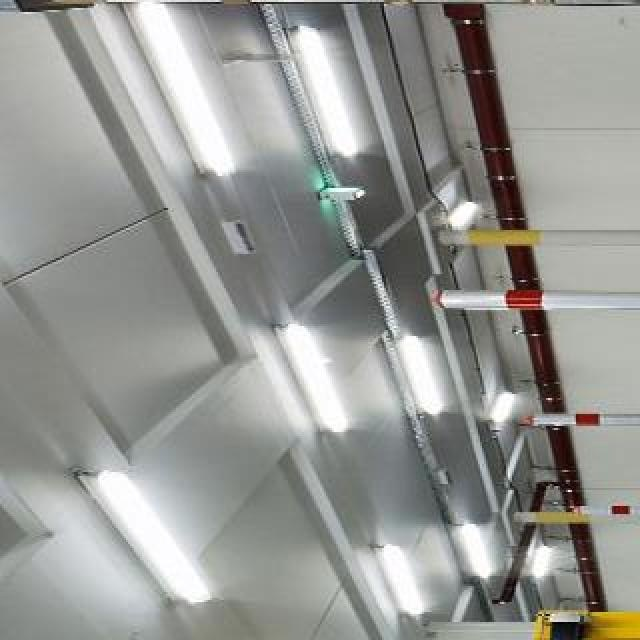fluorescent tube: (83, 451, 245, 627), (118, 2, 255, 205), (264, 305, 376, 463), (291, 2, 374, 180), (367, 511, 440, 627), (378, 309, 447, 424), (433, 500, 509, 589)
